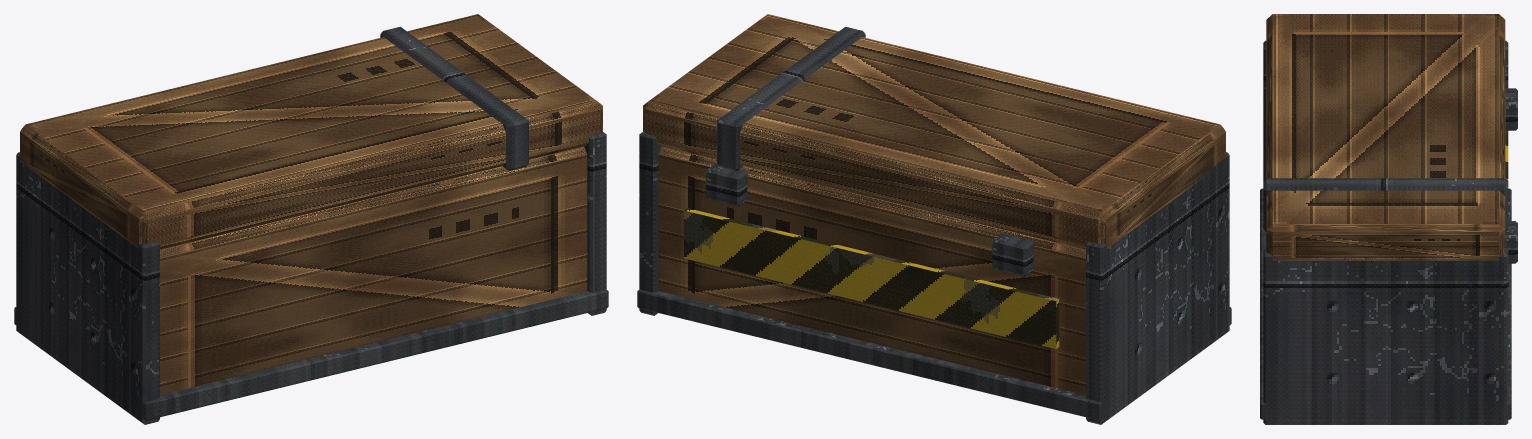
File: prop_mystery_crate.glb
The picture shows the model from 3 angles, left to right: view 1: azimuth 30°, elevation 25°; view 2: azimuth 150°, elevation 25°; view 3: azimuth 270°, elevation 25°; orthographic projection. The views are drawn at different scales.
Parts seen in each view (by area): view 1: prop_mystery_crate_mesh, Lid, LidStrap; view 2: prop_mystery_crate_mesh, Lid, LidStrap; view 3: Lid, prop_mystery_crate_mesh, LidStrap.
Boxes of the visible parts, left/top/right/bottom form: prop_mystery_crate_mesh: left=14, top=131, right=608, bottom=424; Lid: left=20, top=14, right=602, bottom=249; LidStrap: left=380, top=26, right=528, bottom=170; prop_mystery_crate_mesh: left=637, top=131, right=1231, bottom=424; Lid: left=643, top=14, right=1225, bottom=249; LidStrap: left=717, top=26, right=865, bottom=170; Lid: left=1266, top=14, right=1505, bottom=260; prop_mystery_crate_mesh: left=1260, top=40, right=1517, bottom=424; LidStrap: left=1263, top=178, right=1508, bottom=231.
Bounding box in the file's own units: 1.62 × 0.71 × 0.82.
4 materials, 4 textured.
